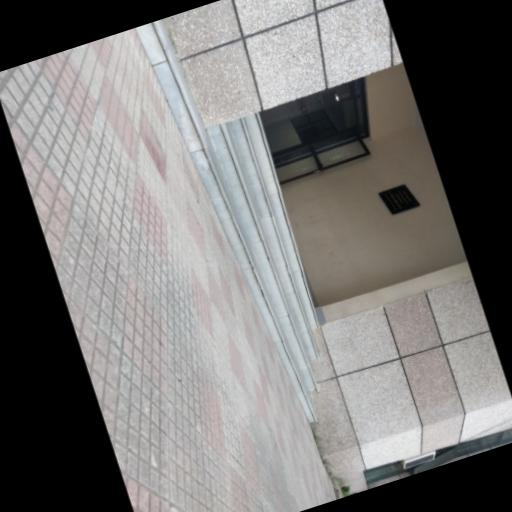stairs: (135, 20, 318, 422)
